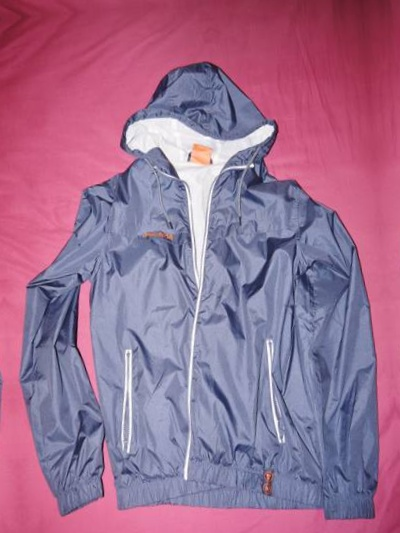Hoodie: (0, 33, 400, 527), (364, 1, 400, 496), (0, 64, 18, 533)
